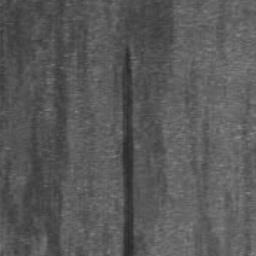Scratches: (122, 45, 134, 256)
